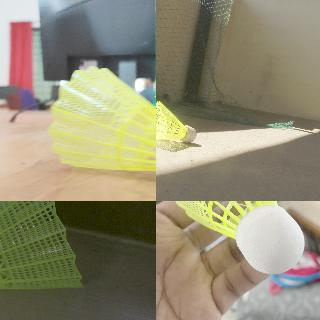shuttlecock: (48, 65, 155, 192), (169, 201, 303, 274), (0, 201, 82, 306), (156, 101, 197, 143)
